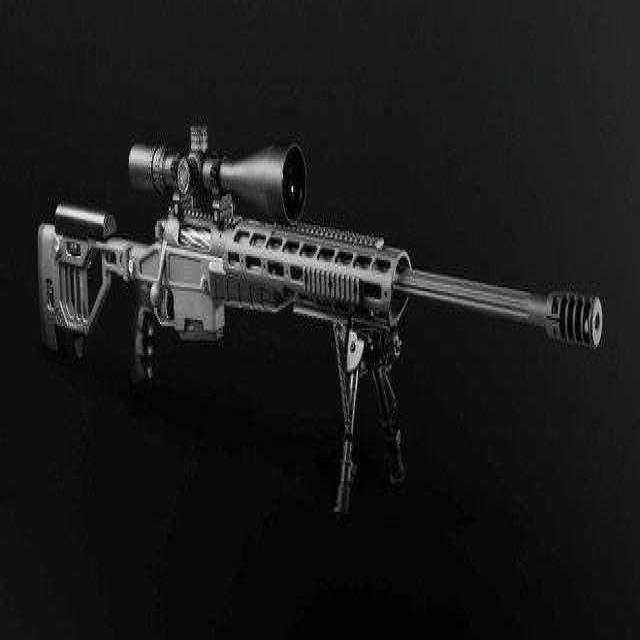heavyweapon: (32, 108, 619, 542)
